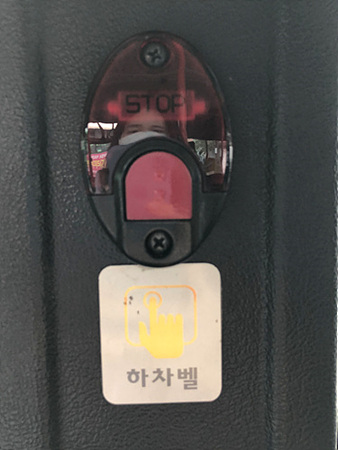bell: (78, 30, 235, 268)
